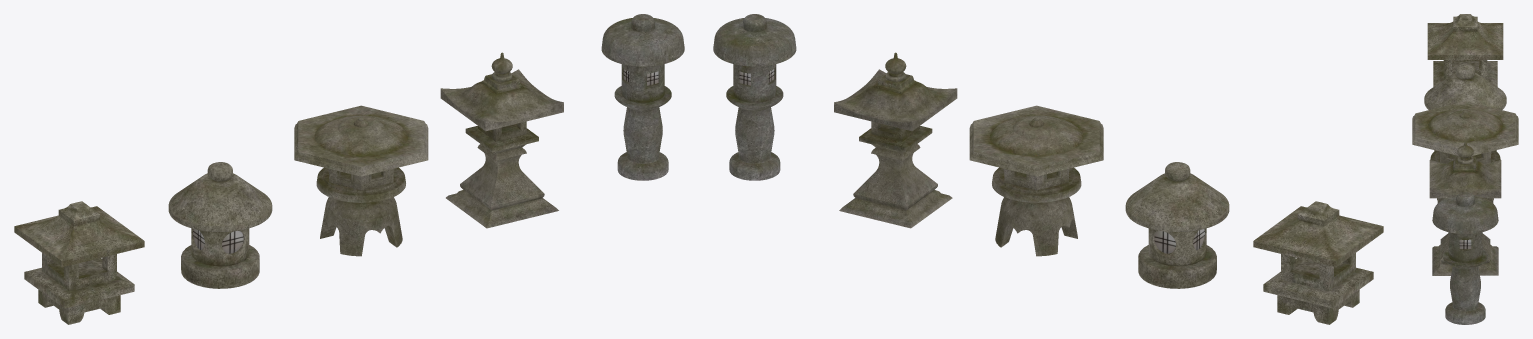
Rendered from lanterns.glb.
3 views of the same model, side by side, from view 1: azimuth 30°, elevation 25°; view 2: azimuth 150°, elevation 25°; view 3: azimuth 270°, elevation 25° (orthographic). The views are drawn at different scales.
Visible parts, largest first — view 1: 3_Japanese_lanterns_0, 4_Japanese_lanterns_0, 1_Japanese_lanterns_0, 2_Japanese_lanterns_0, 5_Japanese_lanterns_0; view 2: 3_Japanese_lanterns_0, 4_Japanese_lanterns_0, 1_Japanese_lanterns_0, 2_Japanese_lanterns_0, 5_Japanese_lanterns_0; view 3: 5_Japanese_lanterns_0, 3_Japanese_lanterns_0, 1_Japanese_lanterns_0, 4_Japanese_lanterns_0, 2_Japanese_lanterns_0.
Boxes of the visible parts, box(x1,y1,x2,y2) form: 3_Japanese_lanterns_0: box(294, 105, 428, 256); 4_Japanese_lanterns_0: box(440, 52, 563, 228); 1_Japanese_lanterns_0: box(14, 201, 144, 324); 2_Japanese_lanterns_0: box(168, 162, 272, 288); 5_Japanese_lanterns_0: box(601, 14, 684, 180); 3_Japanese_lanterns_0: box(969, 105, 1103, 256); 4_Japanese_lanterns_0: box(834, 52, 957, 228); 1_Japanese_lanterns_0: box(1253, 201, 1383, 324); 2_Japanese_lanterns_0: box(1125, 162, 1229, 288); 5_Japanese_lanterns_0: box(713, 14, 796, 180); 5_Japanese_lanterns_0: box(1432, 192, 1498, 324); 3_Japanese_lanterns_0: box(1412, 101, 1518, 202); 1_Japanese_lanterns_0: box(1427, 14, 1503, 86); 4_Japanese_lanterns_0: box(1429, 141, 1501, 275); 2_Japanese_lanterns_0: box(1424, 64, 1506, 151).
Bounding box in the file's own units: 9.1 × 2.07 × 1.64.
1 material, 1 textured.
